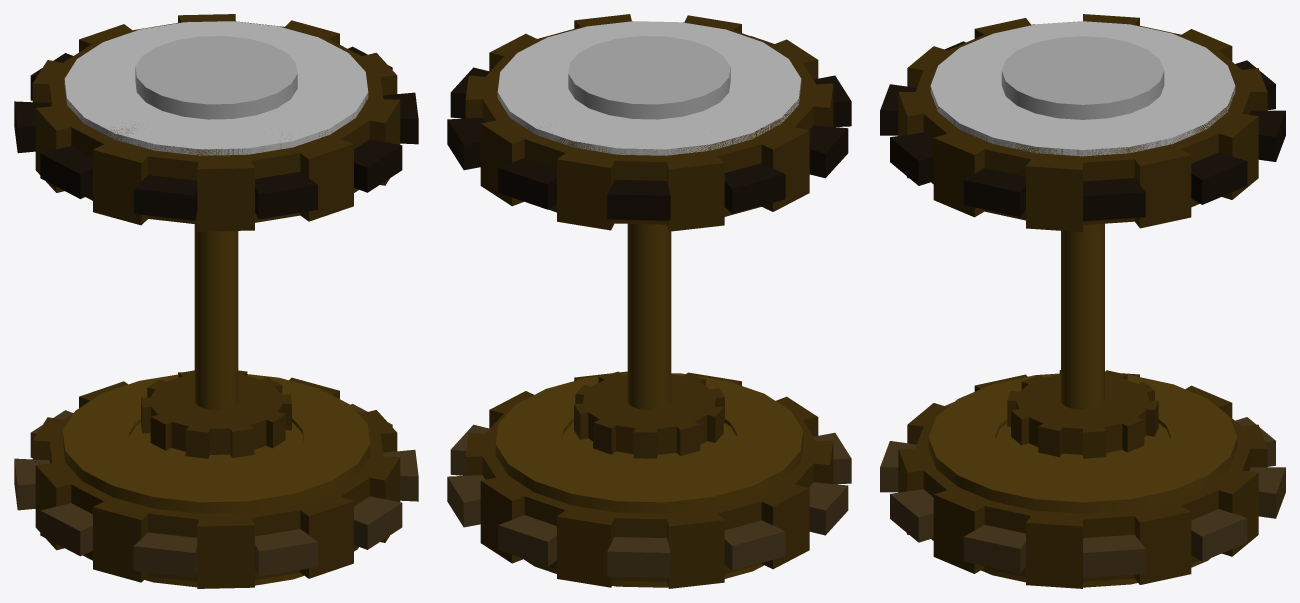
Rendered from DoubleGearConnect.fbx.
3 renders of one model, left to right at view 1: azimuth 30°, elevation 25°; view 2: azimuth 150°, elevation 25°; view 3: azimuth 270°, elevation 25°, orthographic.
Parts seen in each view (by area): view 1: pasted__Gear, Gear, pCylinder3, Ring, pasted__MiniGear, MiniGear, pasted__pCylinder3, MoveGear, pCylinder2, pasted__pCylinder1, pCylinder1; view 2: pasted__Gear, Gear, pCylinder3, Ring, pasted__MiniGear, MiniGear, pasted__pCylinder3, MoveGear, pCylinder2, pCylinder1, pasted__pCylinder1, polySurface1; view 3: pasted__Gear, Gear, pCylinder3, Ring, pasted__MiniGear, MiniGear, pasted__pCylinder3, MoveGear, pCylinder2, pCylinder1, pasted__pCylinder1, polySurface1.
Boxes of the visible parts, <box> form: pasted__Gear: <box>32,14,400,231</box>; Gear: <box>32,372,400,588</box>; pCylinder3: <box>64,21,368,155</box>; Ring: <box>62,374,370,587</box>; pasted__MiniGear: <box>14,46,418,220</box>; MiniGear: <box>14,404,418,577</box>; pasted__pCylinder3: <box>135,36,297,119</box>; MoveGear: <box>141,370,291,458</box>; pCylinder2: <box>194,224,238,409</box>; pasted__pCylinder1: <box>130,423,303,474</box>; pCylinder1: <box>62,422,370,579</box>; pasted__Gear: <box>465,14,833,231</box>; Gear: <box>465,371,833,588</box>; pCylinder3: <box>497,21,801,155</box>; Ring: <box>495,373,803,587</box>; pasted__MiniGear: <box>447,36,851,220</box>; MiniGear: <box>447,424,851,577</box>; pasted__pCylinder3: <box>568,36,730,119</box>; MoveGear: <box>574,371,724,458</box>; pCylinder2: <box>627,223,671,409</box>; pCylinder1: <box>496,422,803,574</box>; pasted__pCylinder1: <box>563,431,736,474</box>; polySurface1: <box>498,82,801,154</box>; pasted__Gear: <box>898,14,1267,232</box>; Gear: <box>898,373,1267,588</box>; pCylinder3: <box>930,21,1235,156</box>; Ring: <box>928,373,1237,587</box>; pasted__MiniGear: <box>880,41,1285,221</box>; MiniGear: <box>880,402,1285,577</box>; pasted__pCylinder3: <box>1001,36,1164,119</box>; MoveGear: <box>1007,370,1158,458</box>; pCylinder2: <box>1061,223,1104,409</box>; pCylinder1: <box>929,423,1236,582</box>; pasted__pCylinder1: <box>997,423,1168,474</box>; polySurface1: <box>930,88,1234,155</box>.
Bounding box in the file's own units: 16.69 × 20.5 × 16.69.
